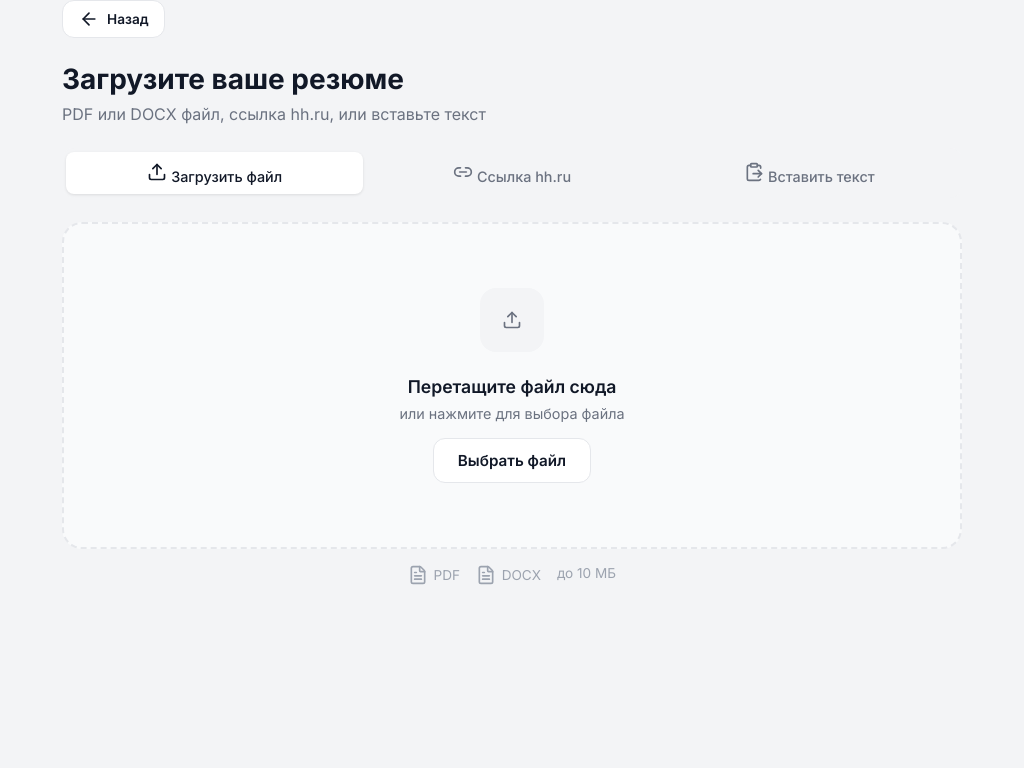
Test: UploadPage hh.ru URL tab › switches to paste tab on fallback click
What coordinates should you click on to do the following:
click the text "Ссылка hh.ru"
I would click on:
 (524, 176)
Its box is [477, 168, 571, 185].
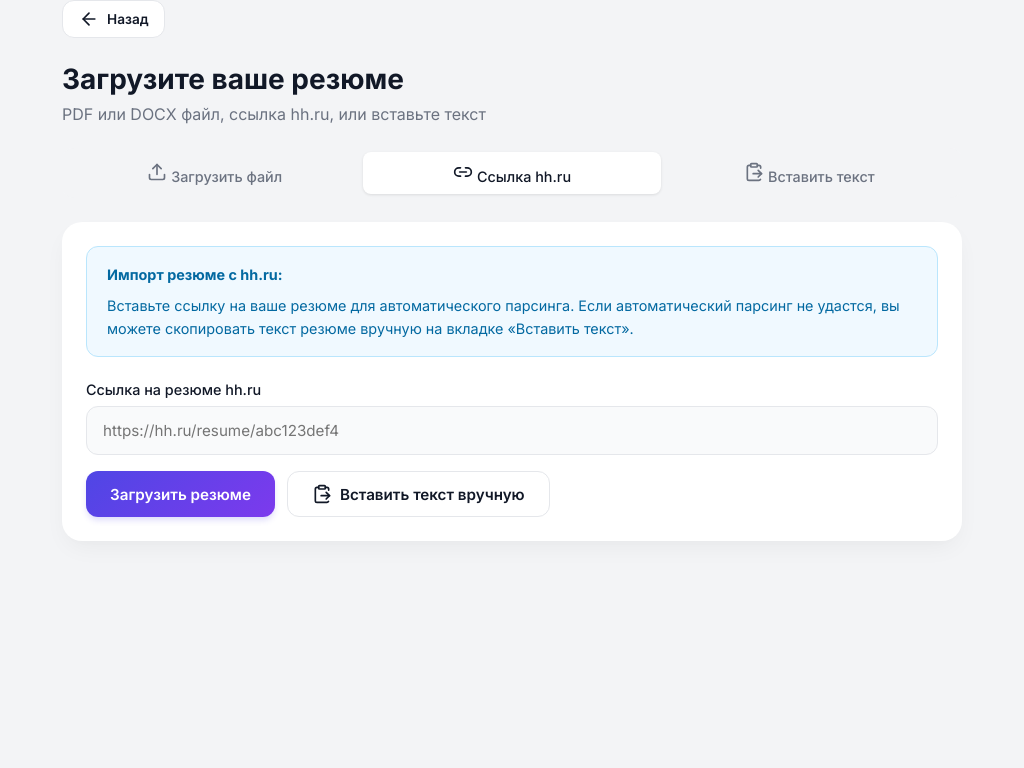
What coordinates should you click on to do the following:
click the button "Вставить текст вручную"
I would click on:
 (418, 494)
Its box is [287, 471, 550, 517].
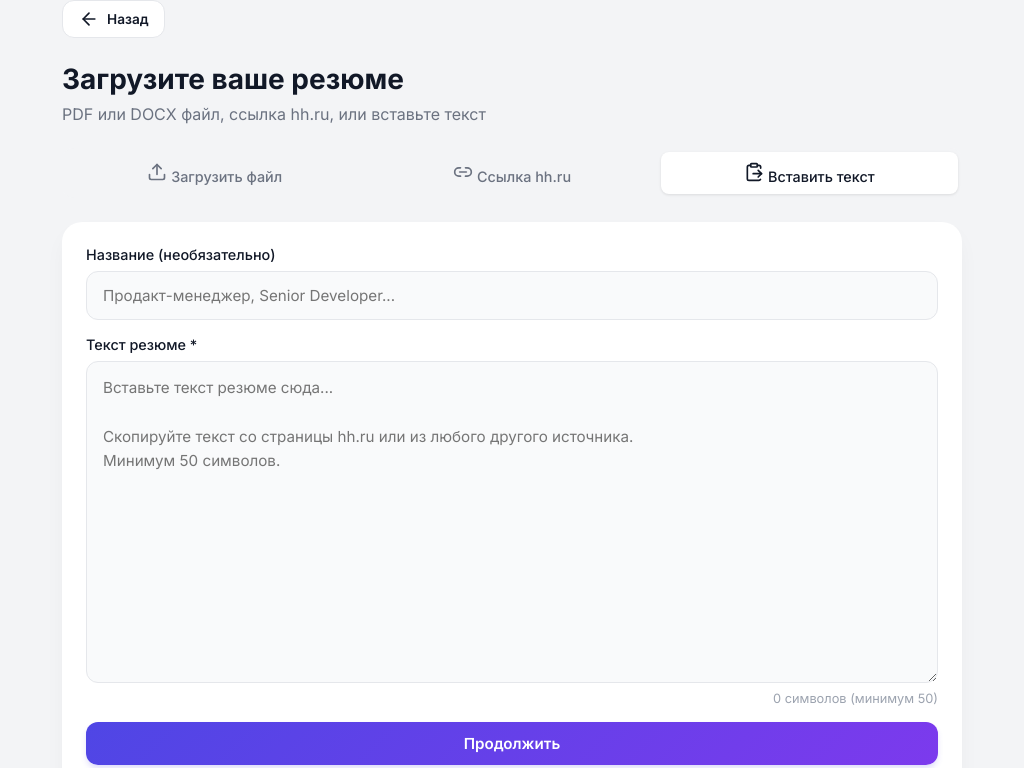
Result: the text "Текст резюме *" is shown at [86, 336, 197, 353]
